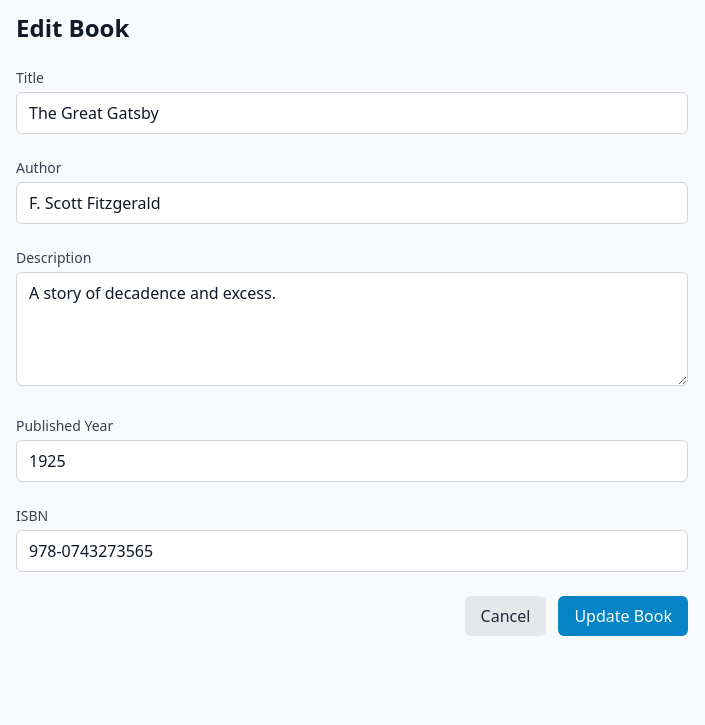
it: BookForm › Edit Mode › shows error message when update fails
The width and height of the screenshot is (705, 725).
Update form fields
Replace the text in the field labelled "Title" with "Updated Title" at (352, 113), box [16,92,688,134]
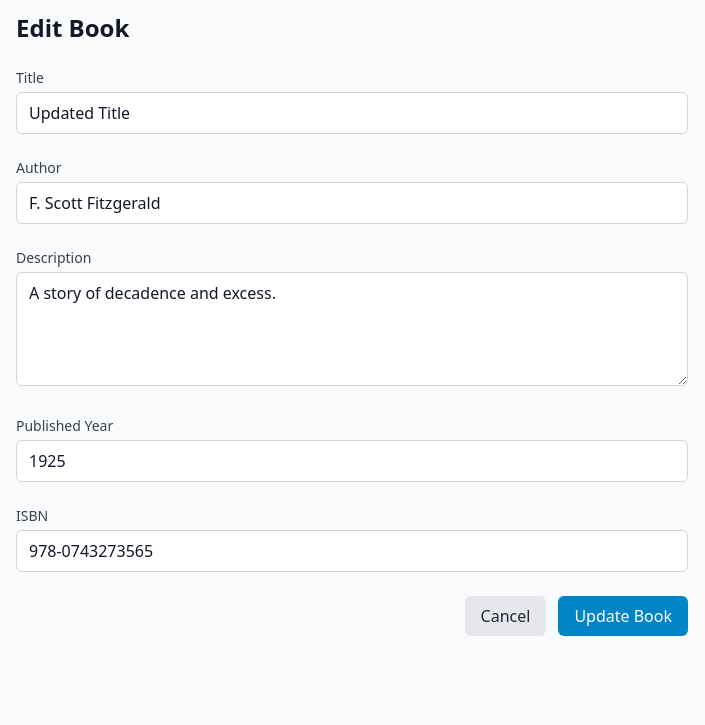
Replace the text in the field labelled "Author" with "Updated Author" at (352, 203), box [16,182,688,224]
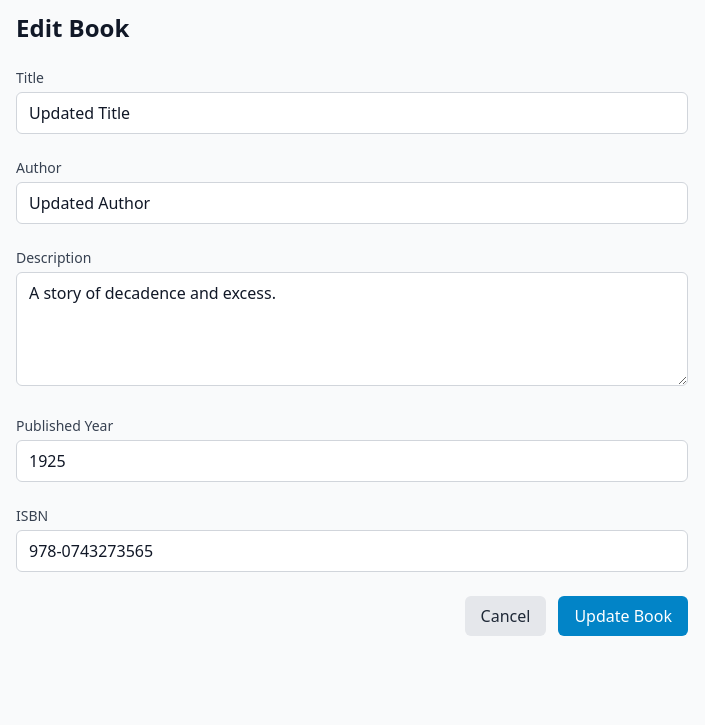
Submit the form
Click the button "Update Book" at (623, 616), box [558,596,688,636]
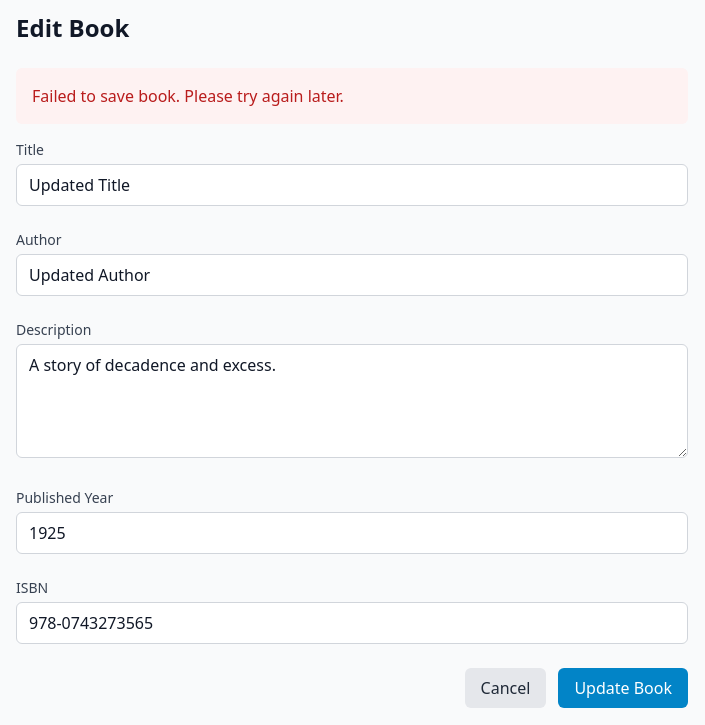
Check: the text "Failed to save book. Please try again later." is shown, box [16,68,688,124]
